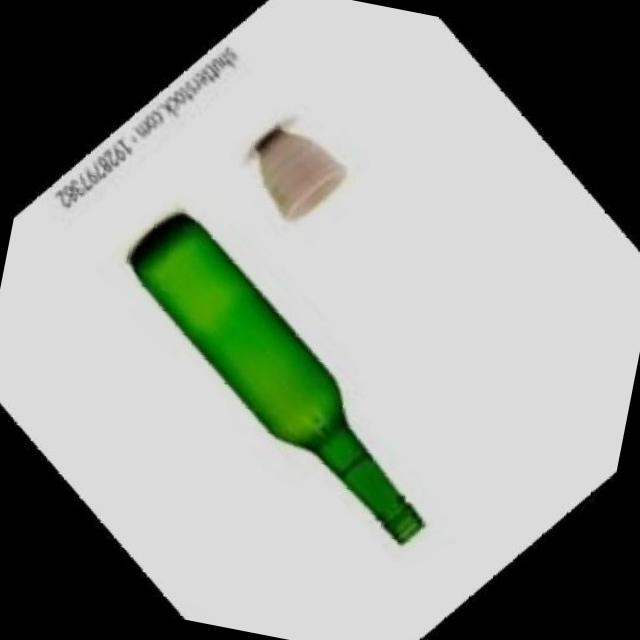BotolKaca: (84, 202, 476, 550)
